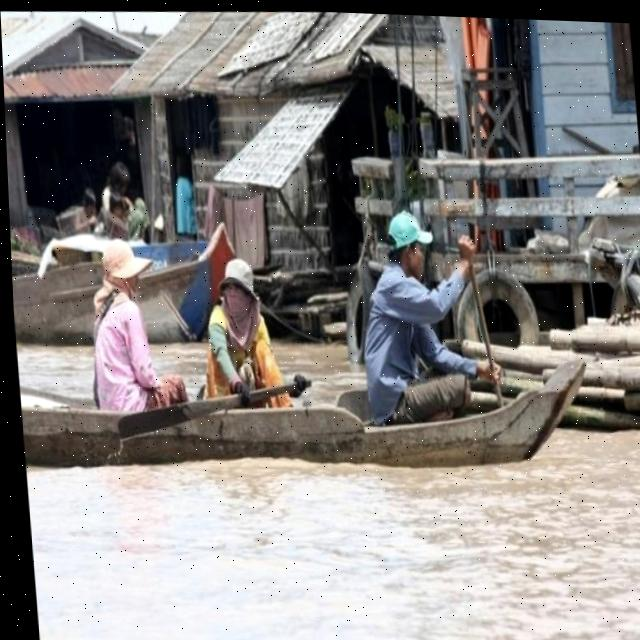civilian: (341, 201, 509, 432), (72, 228, 192, 421), (186, 251, 296, 411)
